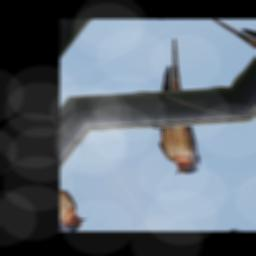Swallow: (110, 38, 244, 181)
